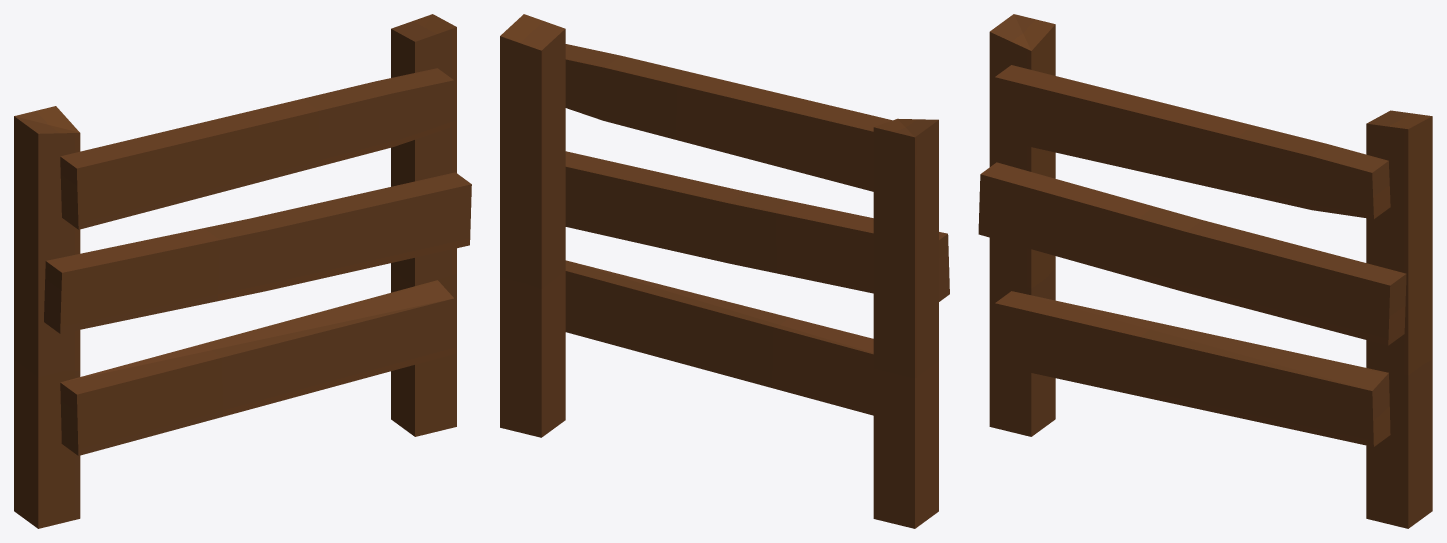
Rendered from Fence.fbx.
The picture shows the model from 3 angles, left to right: view 1: azimuth 30°, elevation 25°; view 2: azimuth 150°, elevation 25°; view 3: azimuth 330°, elevation 25°; orthographic projection.
Parts seen in each view (by area): view 1: Cube.004; view 2: Cube.004; view 3: Cube.004.
Boxes of the visible parts, x1,y1,x2,y2 form: Cube.004: (14, 14, 471, 528); Cube.004: (500, 14, 949, 528); Cube.004: (978, 14, 1432, 528).
Size of the model in its own units: 0.7892 by 0.7199 by 0.1333.
